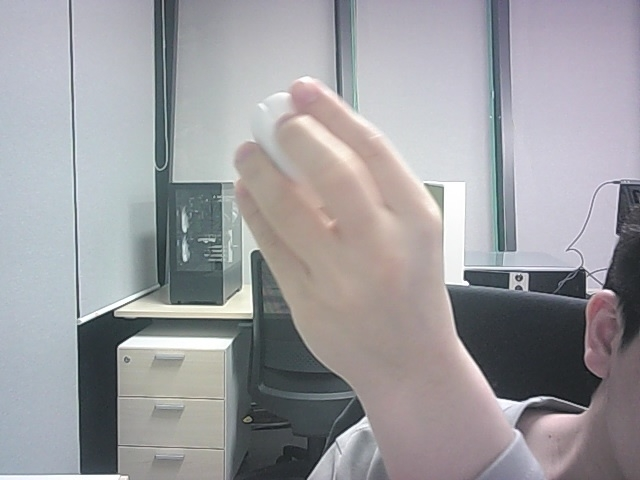case: (251, 92, 298, 179)
